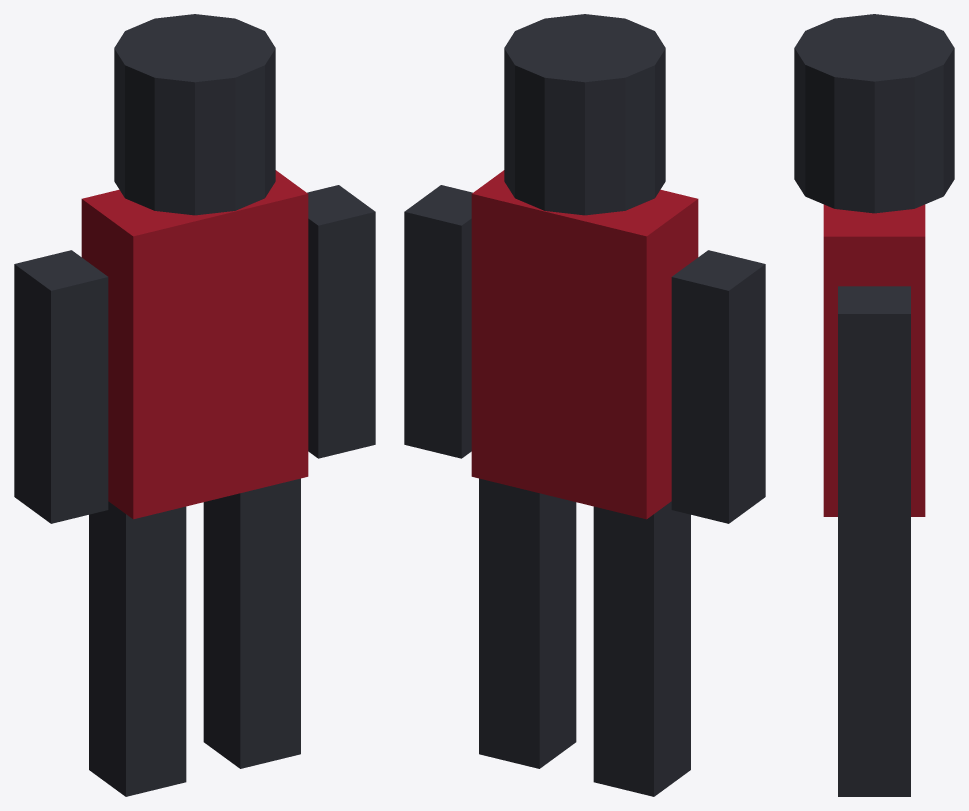
Rendered from security_guard.glb.
3 renders of one model, left to right at view 1: azimuth 30°, elevation 25°; view 2: azimuth 150°, elevation 25°; view 3: azimuth 270°, elevation 25°, orthographic.
Parts seen in each view (by area): view 1: part_0, part_1, part_2, part_3, part_4, part_5; view 2: part_0, part_1, part_2, part_3, part_4, part_5; view 3: part_1, part_5, part_3, part_0.
Part boxes in pixels (x1,y1,x2,y2): part_0: (81, 170, 308, 519); part_1: (114, 14, 275, 215); part_2: (89, 501, 186, 796); part_3: (203, 478, 300, 768); part_4: (14, 250, 108, 523); part_5: (307, 185, 375, 458); part_0: (471, 170, 698, 519); part_1: (504, 14, 665, 215); part_2: (593, 501, 690, 796); part_3: (479, 478, 576, 768); part_4: (671, 250, 765, 523); part_5: (404, 185, 472, 458); part_1: (794, 14, 954, 213); part_5: (838, 286, 910, 544); part_3: (838, 544, 910, 796); part_0: (823, 204, 925, 516).
Bounding box in the file's own units: 1.02 × 2.15 × 0.44.
